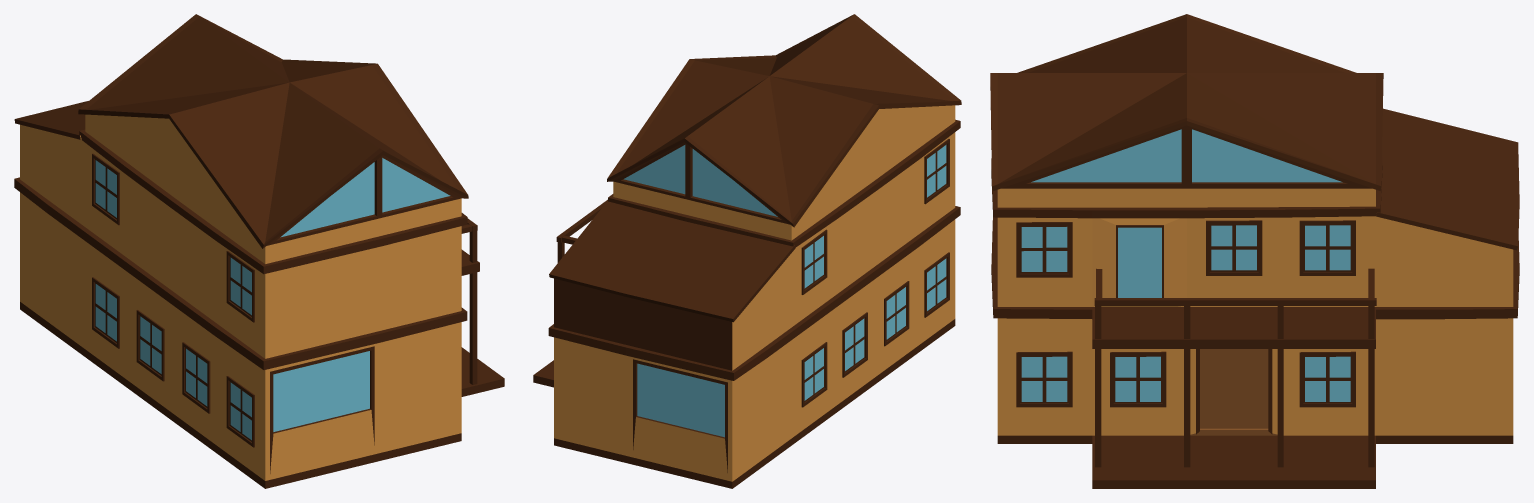
The model's file is domek2.fbx.
3 views of the same model, side by side, from view 1: azimuth 30°, elevation 25°; view 2: azimuth 150°, elevation 25°; view 3: azimuth 270°, elevation 25° (orthographic). The views are drawn at different scales.
Visible parts, largest first — view 1: Cube; view 2: Cube; view 3: Cube.
Part boxes in pixels (<box>): Cube: <box>14,14,504,488</box>; Cube: <box>533,14,961,488</box>; Cube: <box>990,14,1519,488</box>.
Bounding box in the file's own units: 1425 × 1465 × 2139.
